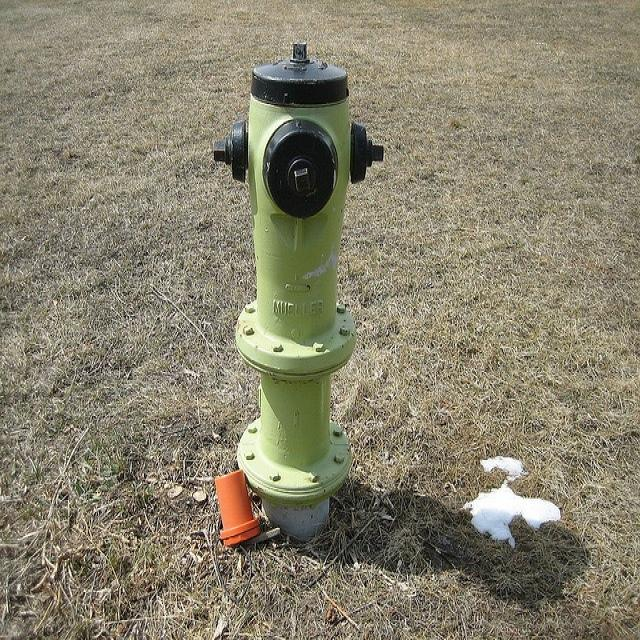fire_hydrant: (210, 36, 388, 545)
